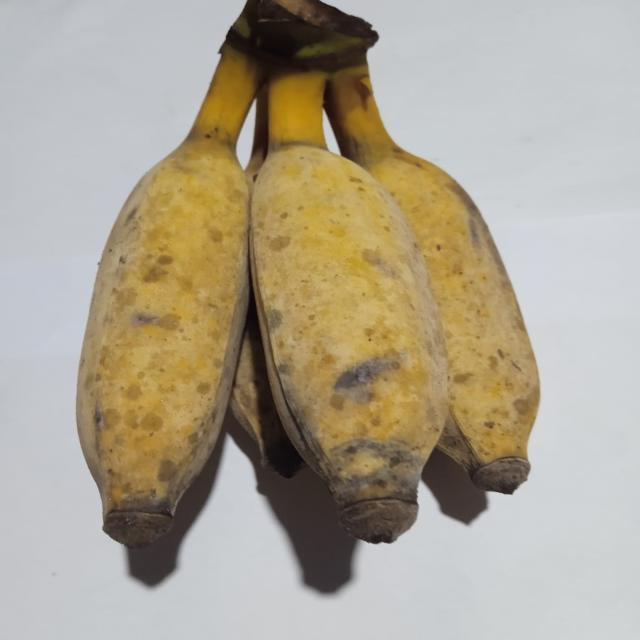banana: (251, 71, 447, 542), (77, 46, 261, 547), (327, 64, 539, 493), (230, 301, 302, 477)
